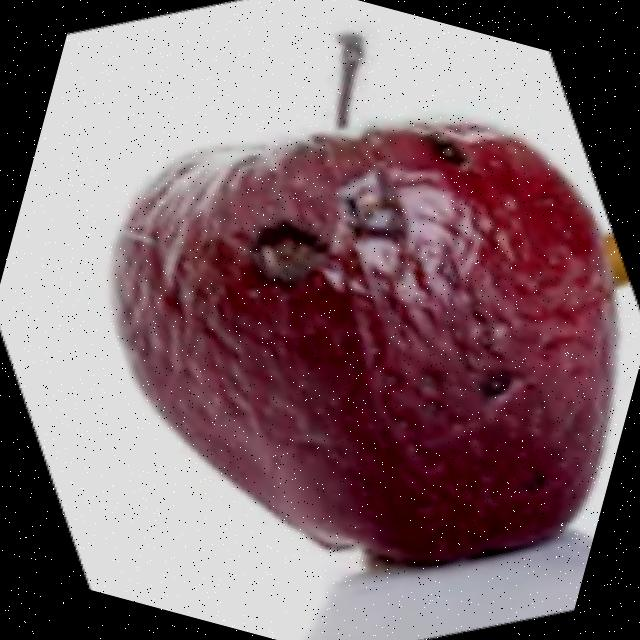overripe: (43, 24, 640, 615)
